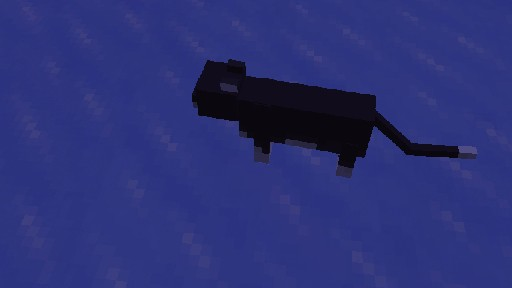cat: (191, 58, 477, 178)
